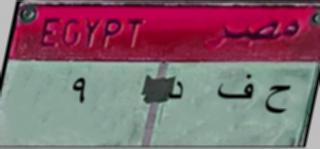7aa: (261, 78, 295, 122)
9: (67, 75, 93, 106)
daal: (166, 77, 190, 106)
faa: (215, 70, 259, 107)
